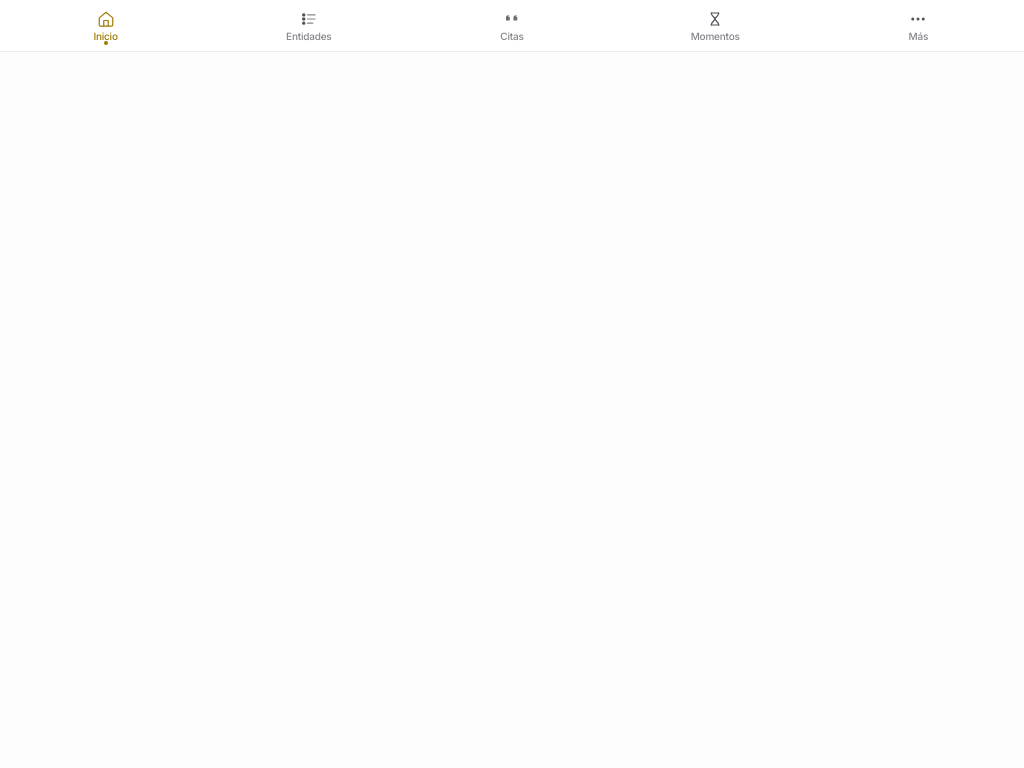
Test: <MobileBottomNav /> › cierra la hoja con la tecla Escape
Step 1. Click the button with aria-label "Más vistas" → (918, 26), box [817,6,1020,46]
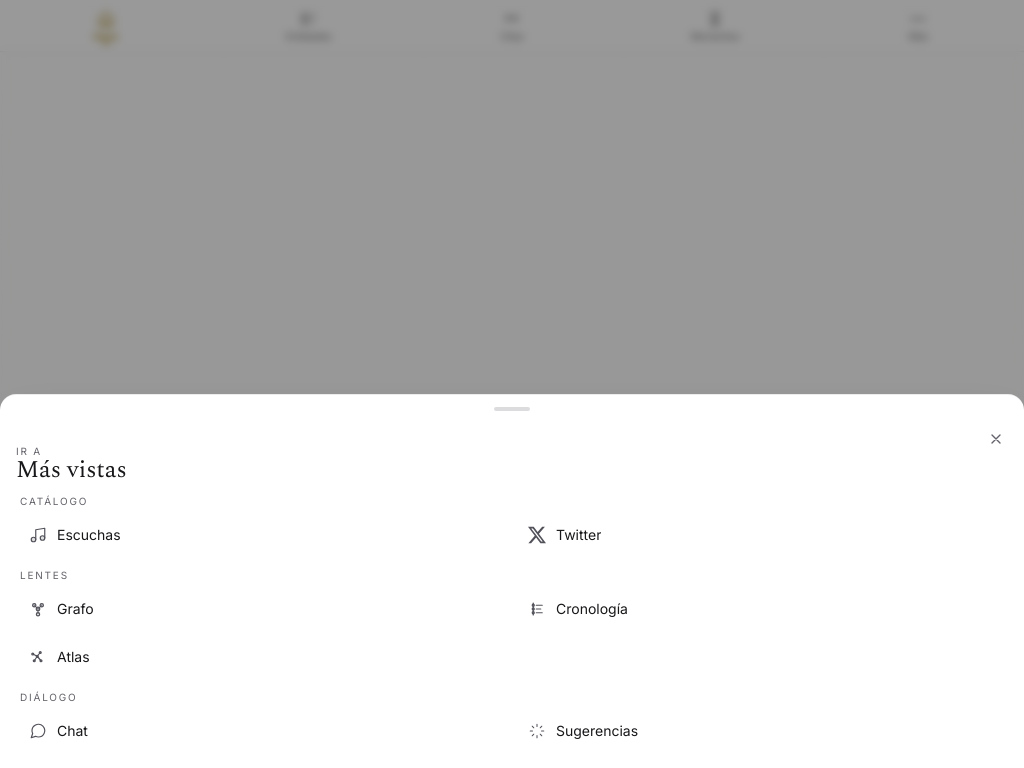
Expected: the dialog "Más vistas" is shown
Step 2. Press Escape
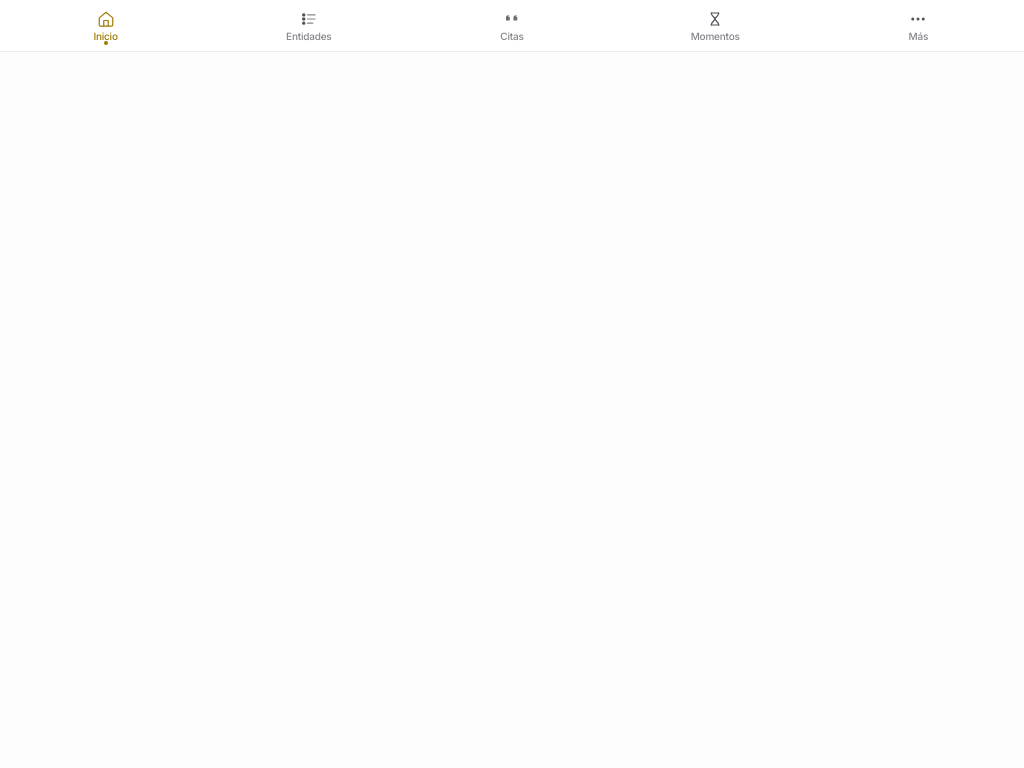
Expected: the heading "Más vistas" is gone
